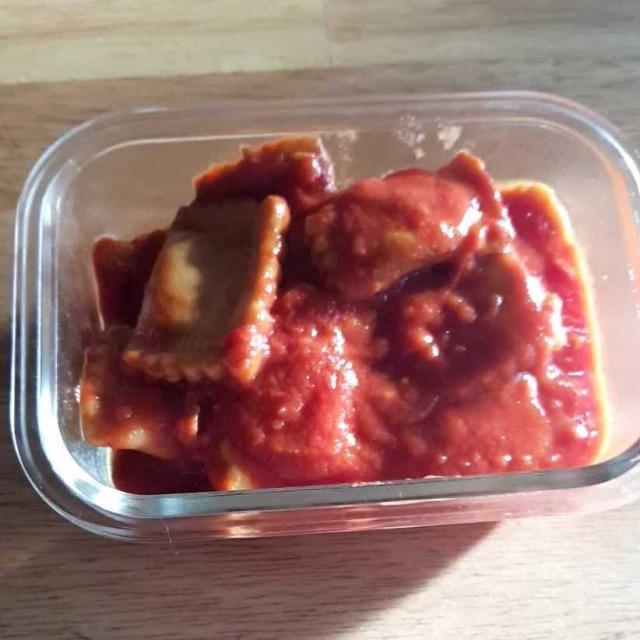tomato-sauce: (79, 158, 593, 488)
